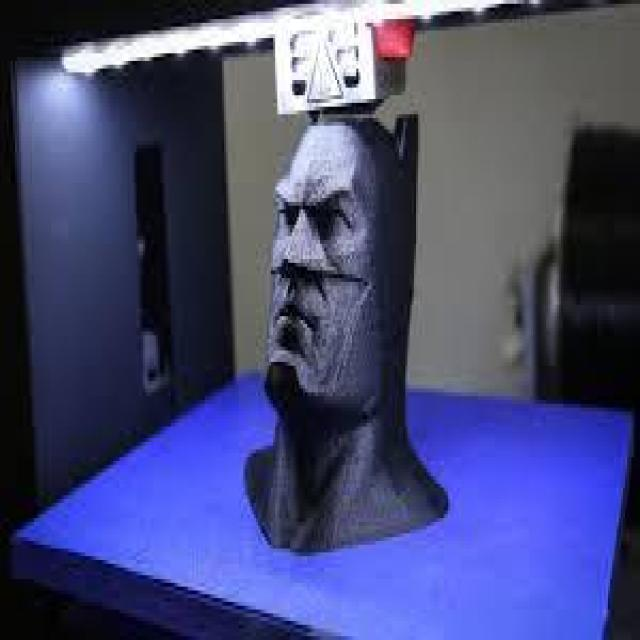Without deffect: (241, 97, 455, 571)
